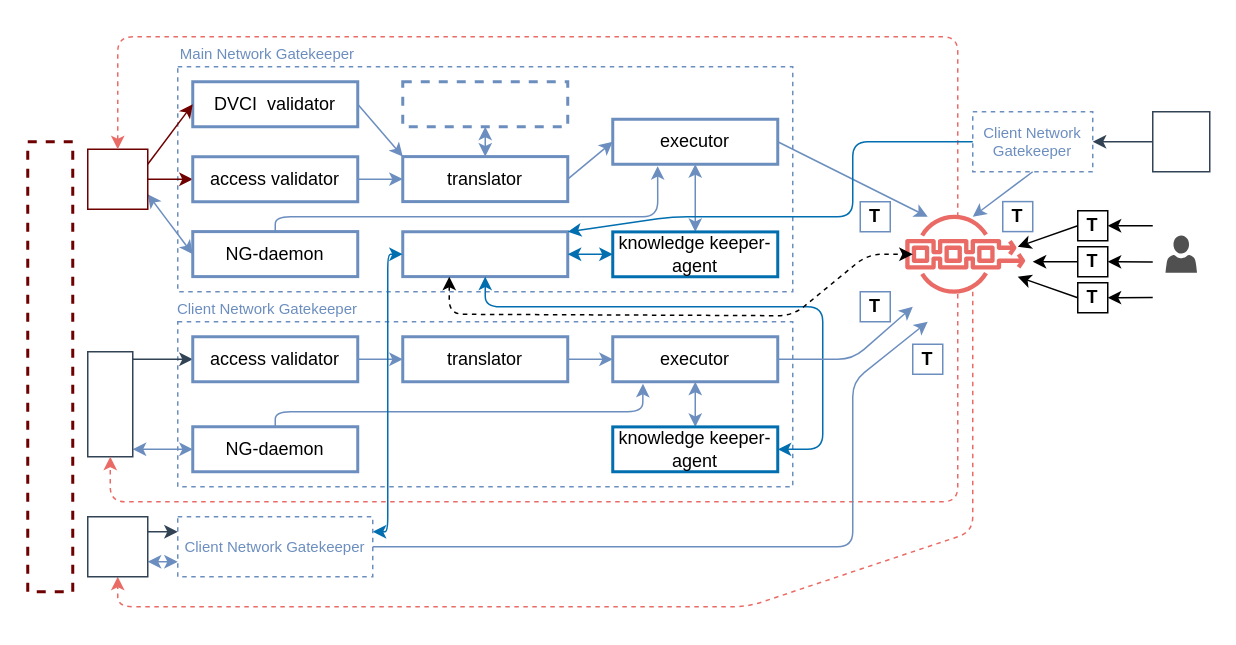
Image size: 1236x645. Some labels were removed from this diagram. The shapes that lost their labels are listed below. From the top down, each one's centre as x and y in pixels, then its label:
At point 484,104: "DVCI book".
At point 1180,141: "github env".
At point 117,178: "OpSt Node".
At point 484,253: "knowledge keeper".
At point 50,366: "D V C I".
At point 109,403: "D R N".
At point 117,546: "Web 2to3".
